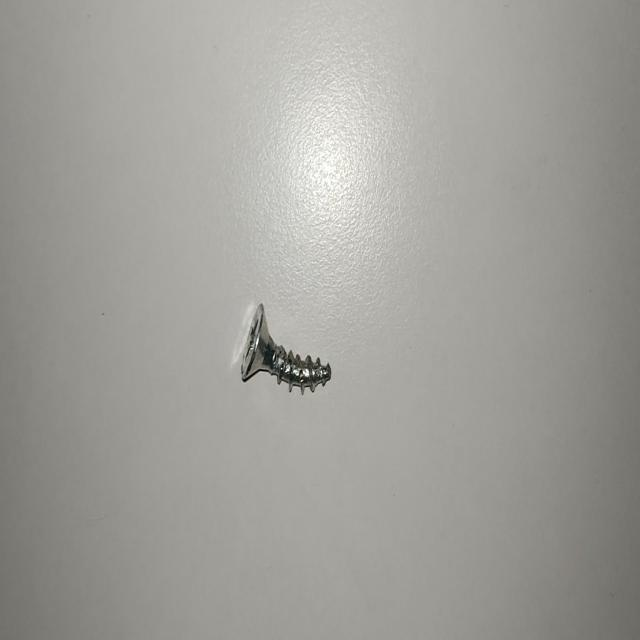Screw: (241, 303, 332, 393)
